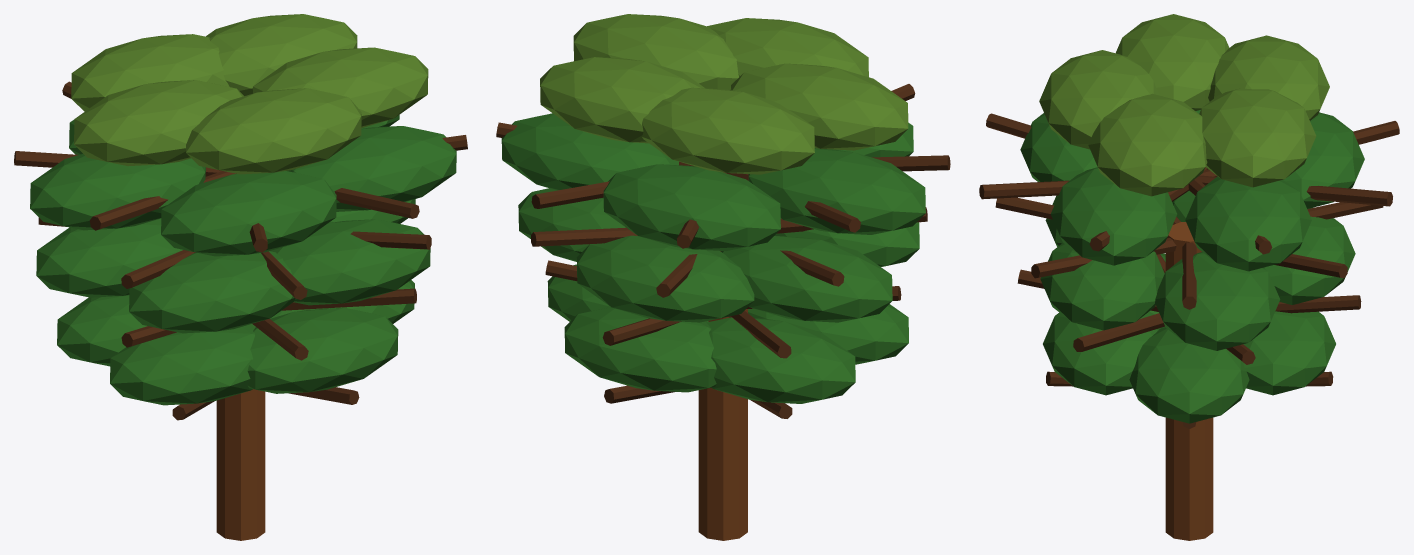
The model's file is PohonKetapang.obj.
3 views of the same model, side by side, from view 1: azimuth 30°, elevation 25°; view 2: azimuth 150°, elevation 25°; view 3: azimuth 270°, elevation 25° (orthographic). The views are drawn at different scales.
Visible parts, largest first — view 1: LEAF_3_3, LEAF_2_3, LEAF_1_3, LEAF_0_4, LEAF_3_2, LEAF_0_3, LEAF_1_4, LEAF_2_2, LEAF_2_4, LEAF_3_4, LEAF_1_2, TRUNK (+15 smaller); view 2: LEAF_2_1, LEAF_3_1, LEAF_1_1, LEAF_2_2, LEAF_1_2, LEAF_3_2, LEAF_0_2, LEAF_0_1, LEAF_3_0, LEAF_2_0, LEAF_3_4, TRUNK (+15 smaller); view 3: LEAF_3_4, LEAF_3_0, LEAF_2_0, LEAF_1_0, LEAF_2_4, LEAF_0_0, LEAF_3_3, LEAF_1_4, LEAF_3_2, TRUNK, LEAF_3_1, LEAF_0_1 (+15 smaller).
Boxes of the visible parts, bbox=[...] form: LEAF_3_3: bbox=[186, 88, 361, 174]; LEAF_2_3: bbox=[161, 171, 336, 256]; LEAF_1_3: bbox=[129, 251, 295, 333]; LEAF_0_4: bbox=[247, 307, 398, 393]; LEAF_3_2: bbox=[74, 80, 243, 166]; LEAF_0_3: bbox=[110, 324, 255, 405]; LEAF_1_4: bbox=[270, 219, 430, 305]; LEAF_2_2: bbox=[30, 154, 205, 230]; LEAF_2_4: bbox=[286, 126, 456, 211]; LEAF_3_4: bbox=[253, 47, 428, 127]; LEAF_1_2: bbox=[36, 218, 182, 297]; TRUNK: bbox=[216, 389, 265, 540]; LEAF_2_1: bbox=[603, 164, 780, 251]; LEAF_3_1: bbox=[642, 87, 814, 174]; LEAF_1_1: bbox=[576, 235, 754, 322]; LEAF_2_2: bbox=[748, 148, 925, 234]; LEAF_1_2: bbox=[721, 236, 892, 322]; LEAF_3_2: bbox=[731, 63, 908, 150]; LEAF_0_2: bbox=[706, 317, 855, 403]; LEAF_0_1: bbox=[564, 307, 716, 392]; LEAF_3_0: bbox=[540, 57, 704, 143]; LEAF_2_0: bbox=[501, 113, 678, 198]; LEAF_3_4: bbox=[573, 14, 738, 90]; TRUNK: bbox=[698, 251, 747, 540]; LEAF_3_4: bbox=[1088, 93, 1207, 196]; LEAF_3_0: bbox=[1199, 88, 1316, 187]; LEAF_2_0: bbox=[1185, 176, 1311, 271]; LEAF_1_0: bbox=[1155, 252, 1280, 350]; LEAF_2_4: bbox=[1050, 167, 1177, 265]; LEAF_0_0: bbox=[1129, 327, 1249, 423]; LEAF_3_3: bbox=[1039, 50, 1159, 149]; LEAF_1_4: bbox=[1040, 242, 1164, 330]; LEAF_3_2: bbox=[1116, 14, 1229, 110]; TRUNK: bbox=[1165, 222, 1213, 540]; LEAF_3_1: bbox=[1208, 35, 1329, 120]; LEAF_0_1: bbox=[1243, 311, 1335, 395].
Size of the model in its own units: 4.04 by 4.55 by 3.82.
